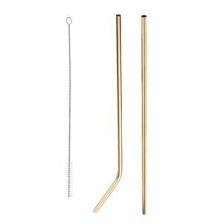drinking_straw: (88, 10, 127, 218), (136, 10, 151, 219)
